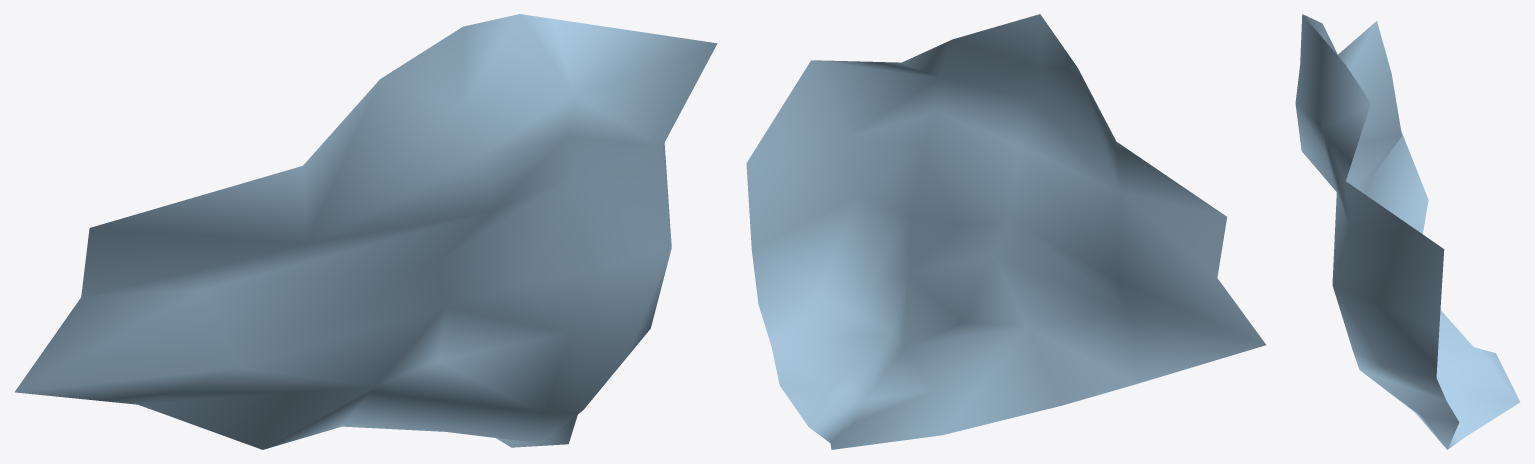
File: RS-4Y_ice01BREAK.fbx
The picture shows the model from 3 angles, left to right: view 1: azimuth 30°, elevation 25°; view 2: azimuth 150°, elevation 25°; view 3: azimuth 270°, elevation 25°; orthographic projection. The views are drawn at different scales.
Parts seen in each view (by area): view 1: RS-4Y_ice01BREAK.001; view 2: RS-4Y_ice01BREAK.001; view 3: RS-4Y_ice01BREAK.001.
Boxes of the visible parts, x1,y1,x2,y2 form: RS-4Y_ice01BREAK.001: (15, 14, 717, 449); RS-4Y_ice01BREAK.001: (746, 14, 1265, 449); RS-4Y_ice01BREAK.001: (1295, 14, 1520, 449).
Bounding box in the file's own units: 471 × 362 × 201.
